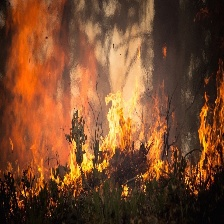fire: (49, 81, 224, 202), (4, 2, 89, 169)
